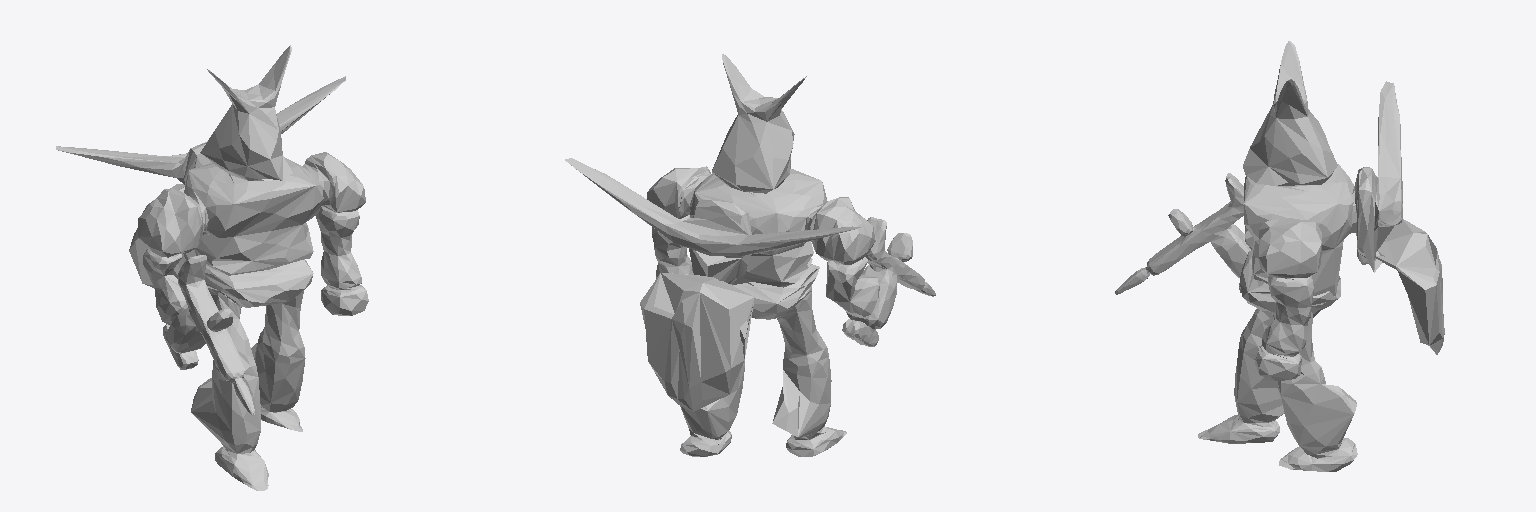
The model's file is playeridle.obj.
3 views of the same model, side by side, from view 1: azimuth 30°, elevation 25°; view 2: azimuth 150°, elevation 25°; view 3: azimuth 270°, elevation 25° (orthographic).
Parts seen in each view (by area): view 1: Cube; view 2: Cube; view 3: Cube.
Boxes of the visible parts, box(x1,y1,x2,y2) form: Cube: box(56, 45, 368, 490); Cube: box(565, 54, 935, 456); Cube: box(1115, 41, 1444, 471).
Bounding box in the file's own units: 4.49 × 5.75 × 4.37.